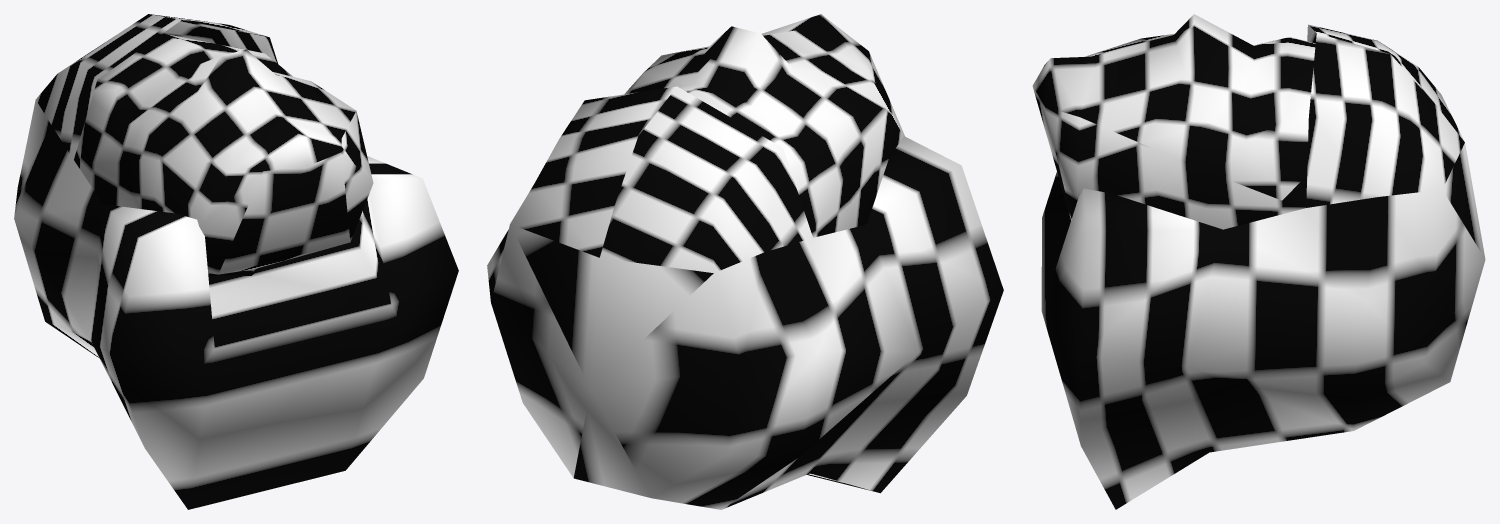
The model's file is infaunhufefa1.dae.
3 views of the same model, side by side, from view 1: azimuth 30°, elevation 25°; view 2: azimuth 150°, elevation 25°; view 3: azimuth 270°, elevation 25° (orthographic). The views are drawn at different scales.
Visible parts, largest first — view 1: face; view 2: face; view 3: face.
Part boxes in pixels (x1=…): face: x1=14, y1=14, x2=458, y2=509; face: x1=487, y1=14, x2=1003, y2=509; face: x1=1032, y1=14, x2=1485, y2=509.
Bounding box in the file's own units: 1.47 × 1.53 × 1.67.
Materials: 1 (1 with a texture image).
